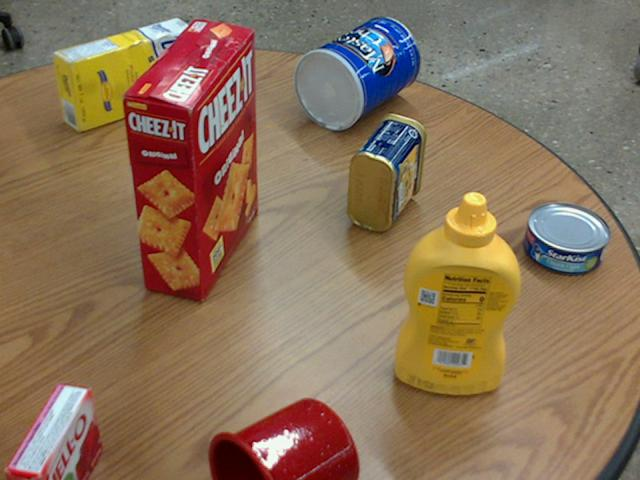cracker_box: (122, 19, 255, 300)
gelatin_box: (0, 383, 98, 479)
master_chef_can: (292, 16, 418, 129)
mug: (204, 399, 357, 479)
mustard_bottle: (393, 192, 519, 393)
potted_meat_can: (347, 113, 424, 230)
sugar_box: (53, 17, 197, 130)
tuna_fish_can: (522, 202, 607, 274)
